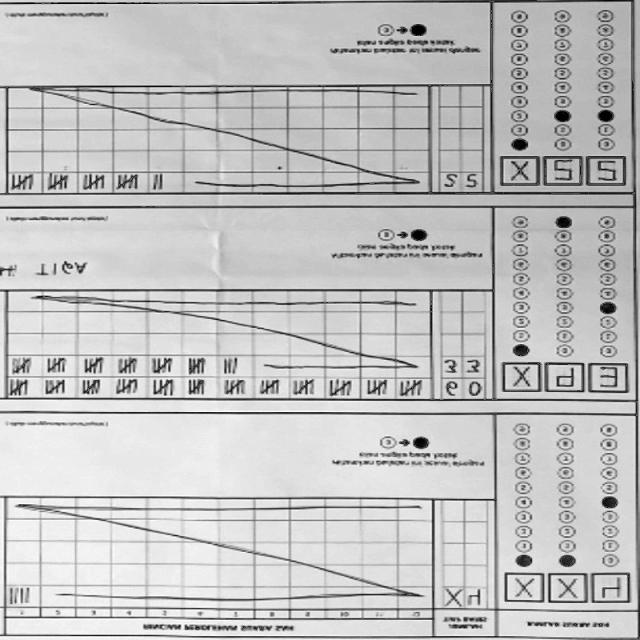Suara: (500, 359, 630, 397), (502, 569, 632, 606), (498, 154, 628, 191)
